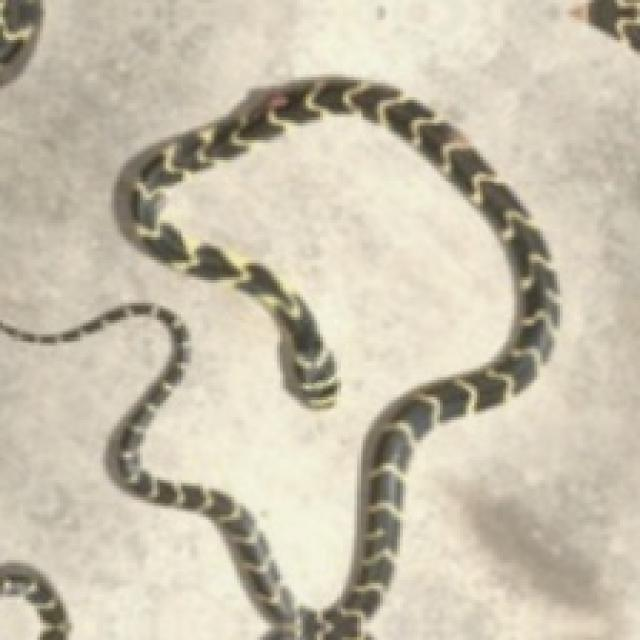king cobra: (0, 77, 557, 637)
